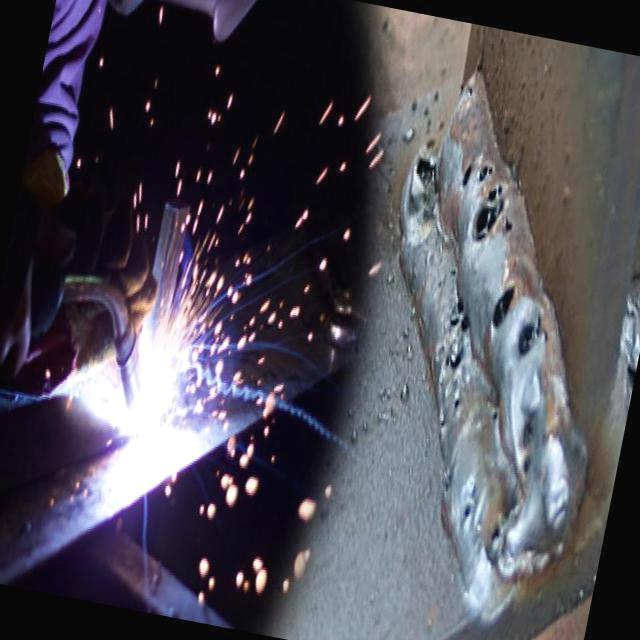defect: (456, 154, 518, 245), (408, 154, 442, 227), (489, 273, 520, 335), (515, 310, 551, 360), (487, 509, 509, 556), (448, 294, 471, 335), (444, 345, 465, 377), (520, 416, 534, 452), (460, 499, 474, 523), (443, 470, 454, 494), (523, 456, 531, 477), (466, 83, 474, 103), (439, 272, 447, 290), (451, 264, 459, 279), (454, 394, 461, 411), (492, 410, 499, 425), (441, 418, 446, 428)
